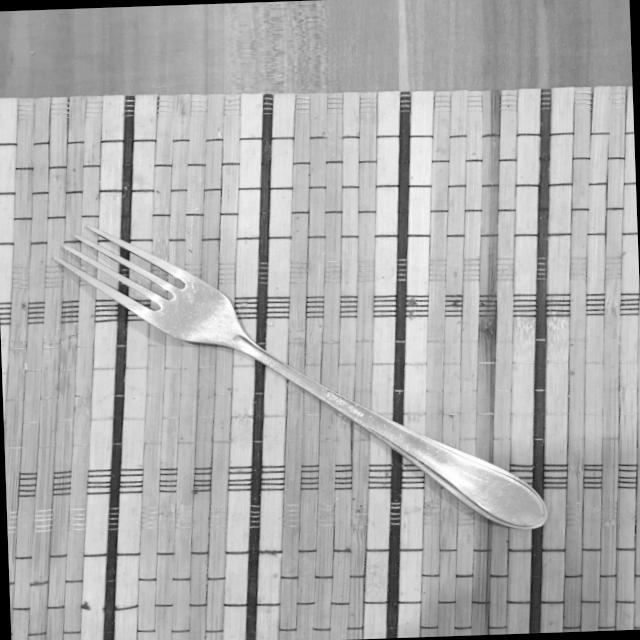fork: (51, 208, 548, 542)
